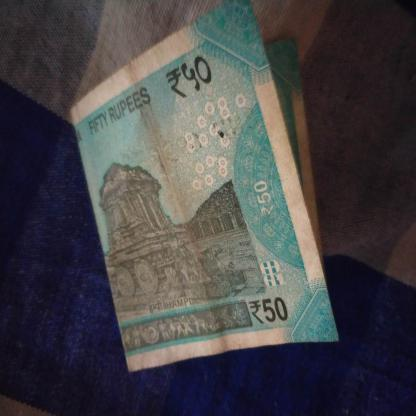New50Back: (78, 52, 288, 364)
